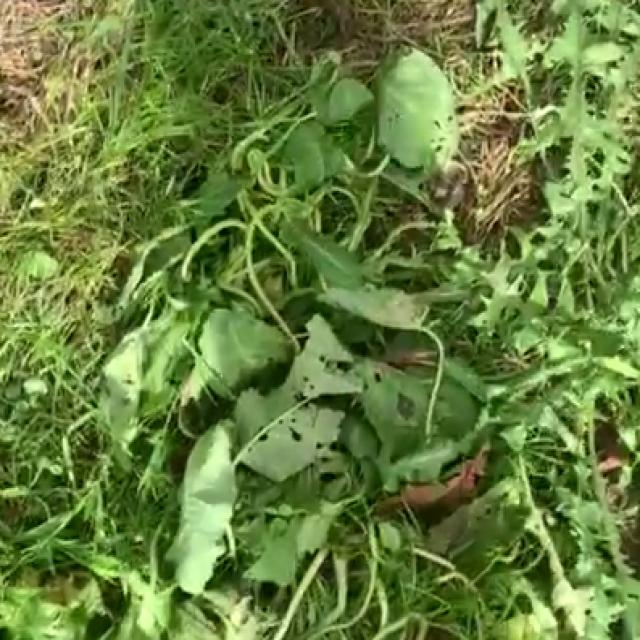organic waste: (63, 180, 595, 596), (107, 64, 576, 392)
